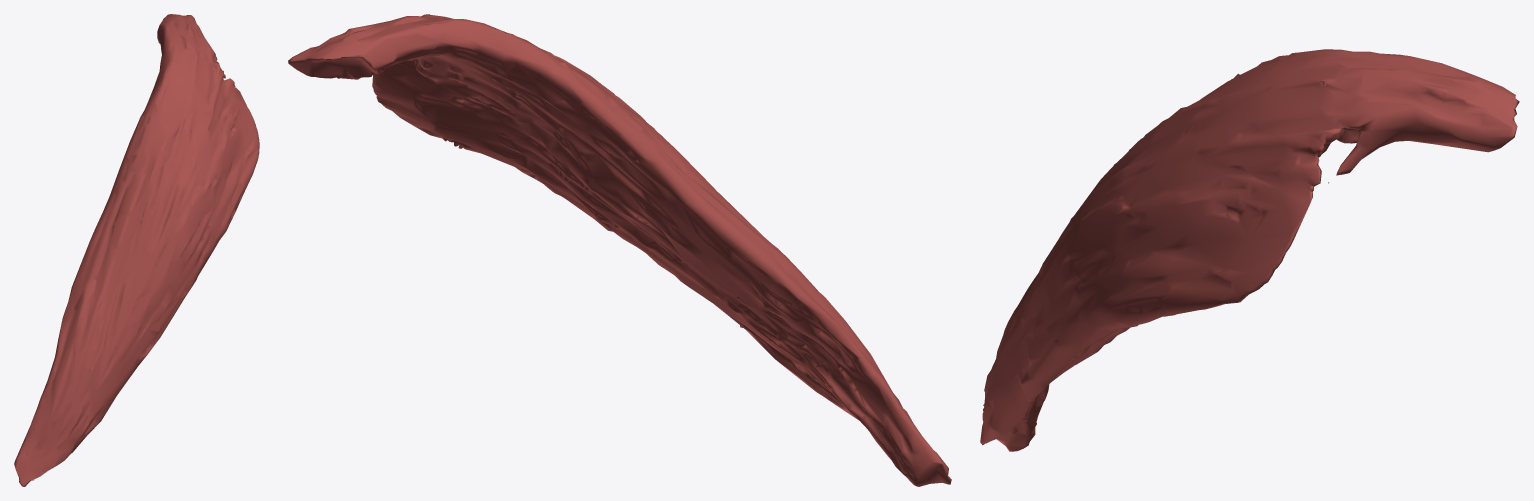
The model's file is FMA37386.glb.
3 views of the same model, side by side, from view 1: azimuth 30°, elevation 25°; view 2: azimuth 150°, elevation 25°; view 3: azimuth 270°, elevation 25° (orthographic). The views are drawn at different scales.
Visible parts, largest first — view 1: FMA37386; view 2: FMA37386; view 3: FMA37386.
Part boxes in pixels (left/top/right/bottom): FMA37386: left=14, top=14, right=259, bottom=486; FMA37386: left=288, top=14, right=951, bottom=486; FMA37386: left=980, top=49, right=1519, bottom=451.
Size of the model in its own units: 0.0394 by 0.0384 by 0.0299.
